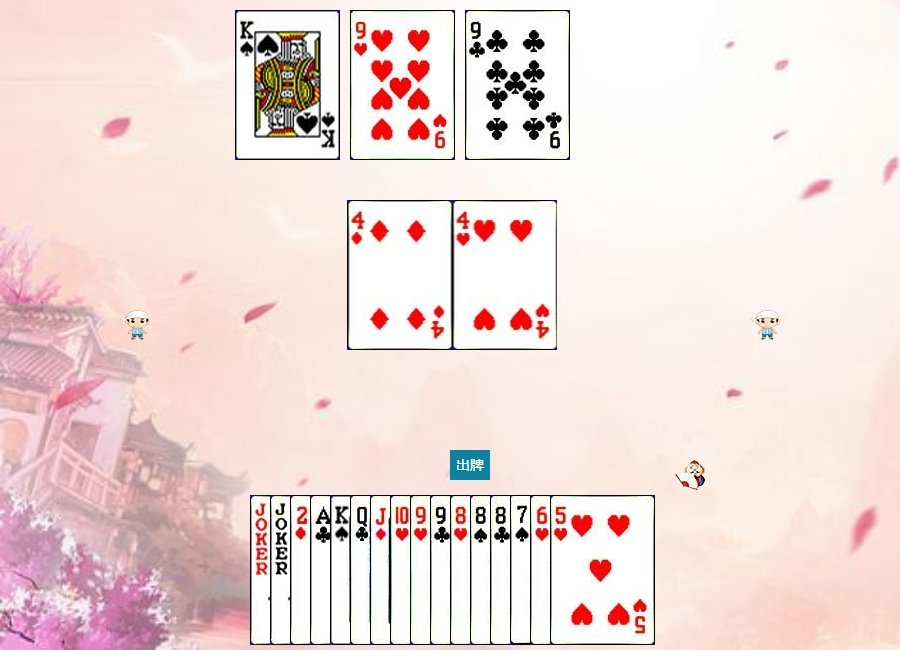10~3: (390, 495, 495, 645)
11~1: (370, 495, 475, 645)
12~2: (350, 495, 455, 645)
13~4: (235, 10, 340, 160), (330, 495, 435, 645)
14~2: (310, 495, 415, 645)
15~1: (290, 495, 395, 645)
17~3: (270, 495, 375, 645)
18~4: (250, 495, 355, 645)
4~1: (348, 200, 453, 350)
4~3: (453, 200, 558, 350)
5~3: (550, 495, 655, 645)
6~3: (530, 495, 635, 645)
7~4: (510, 495, 615, 645)
8~2: (490, 495, 595, 645)
8~3: (450, 495, 555, 645)
8~4: (470, 495, 575, 645)
9~2: (465, 10, 570, 160), (430, 495, 535, 645)
9~3: (350, 10, 455, 160), (410, 495, 515, 645)
